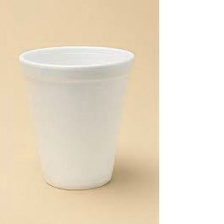paper_cup: (12, 41, 140, 193)
